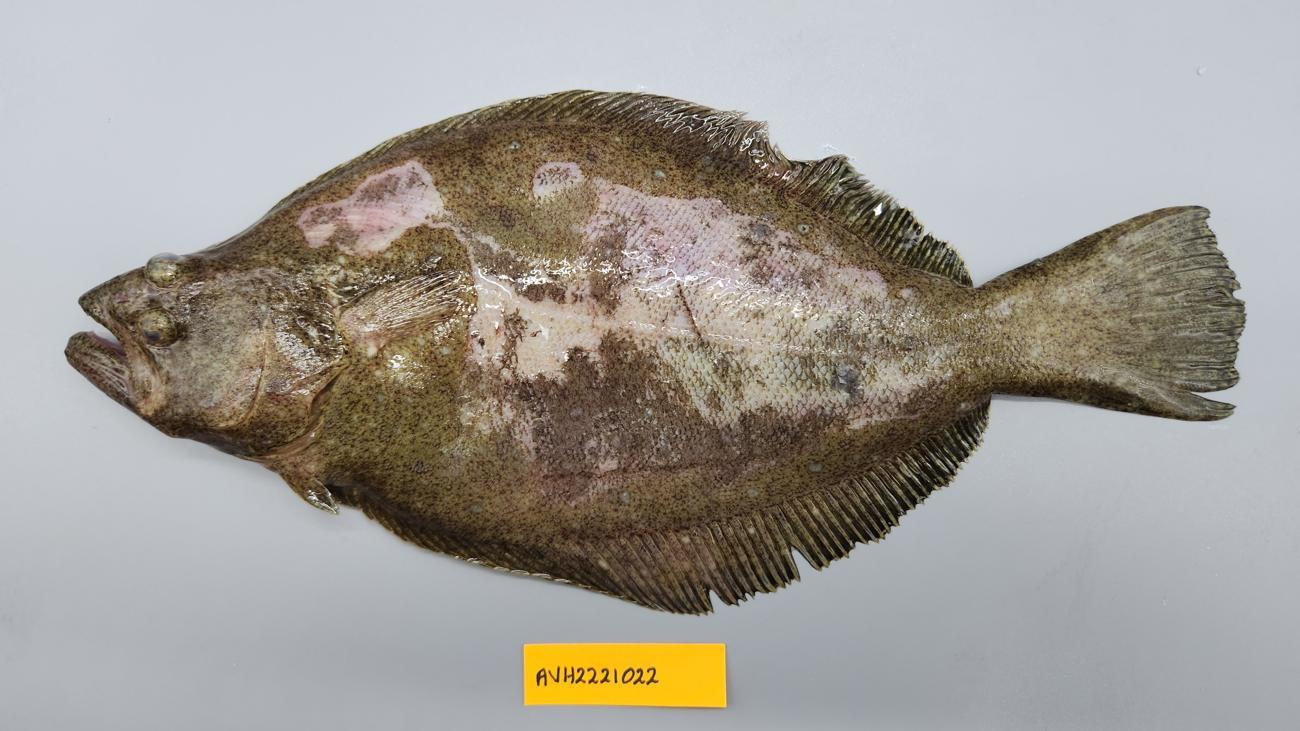VIDYH: (468, 443, 719, 537)
VIDYU: (293, 159, 444, 257), (530, 160, 584, 205)
VIFAH: (503, 496, 860, 615)
VIFCH: (1165, 268, 1223, 322)
VIFDH: (597, 92, 883, 233)
VIOUY: (60, 84, 1243, 613)
